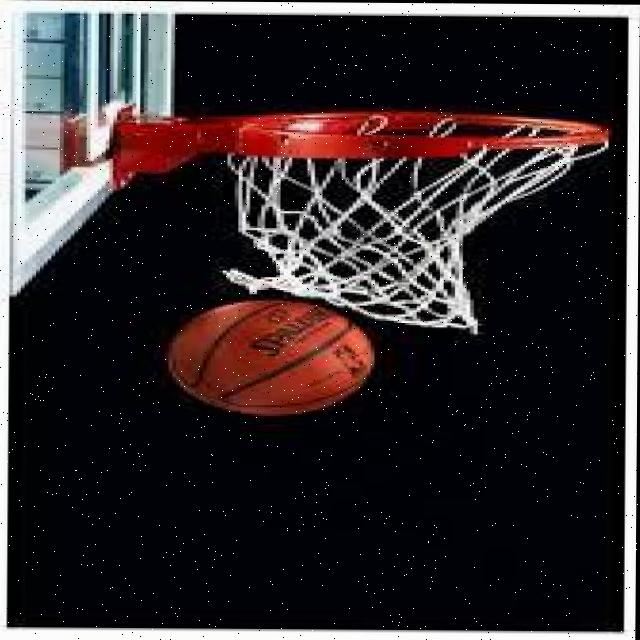Basketball: (168, 297, 372, 416)
